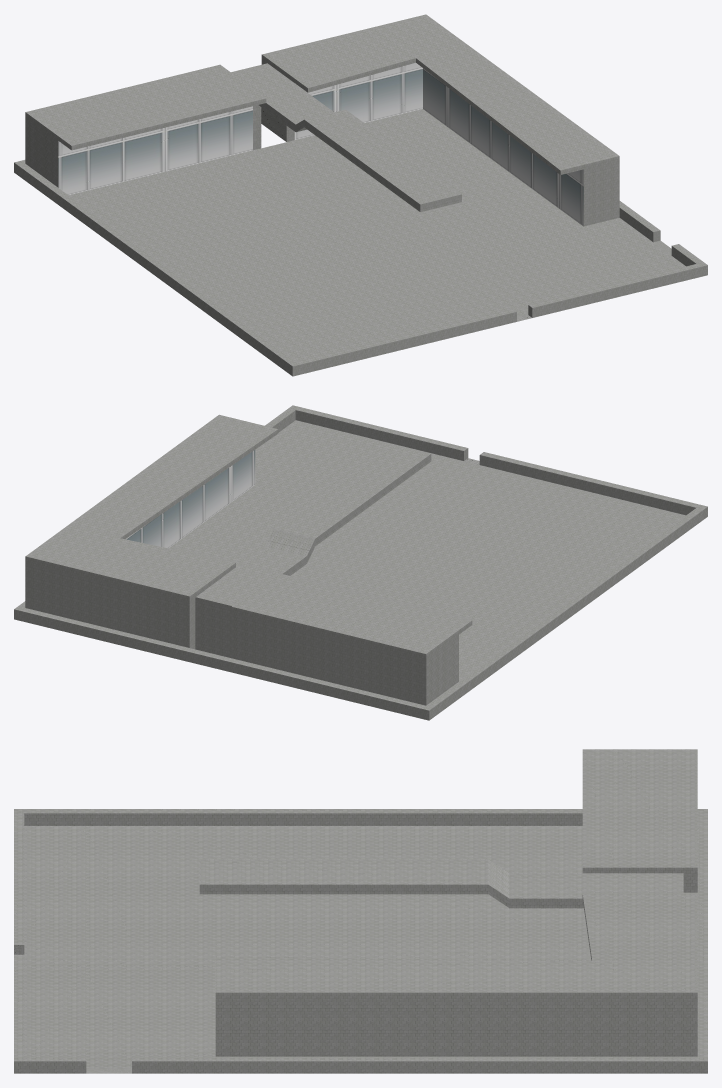
File: terraza2014.FBX
The picture shows the model from 3 angles, top to bottom: view 1: azimuth 30°, elevation 25°; view 2: azimuth 150°, elevation 25°; view 3: azimuth 270°, elevation 25°; orthographic projection. The views are drawn at different scales.
Visible parts, largest first — view 1: Object038; view 2: Object038; view 3: Object038.
Boxes of the visible parts, x1,y1,x2,y2 form: Object038: (14,14,707,376); Object038: (14,405,707,720); Object038: (14,749,707,1073).
Size of the model in its own units: 1693 by 266 by 1969.
